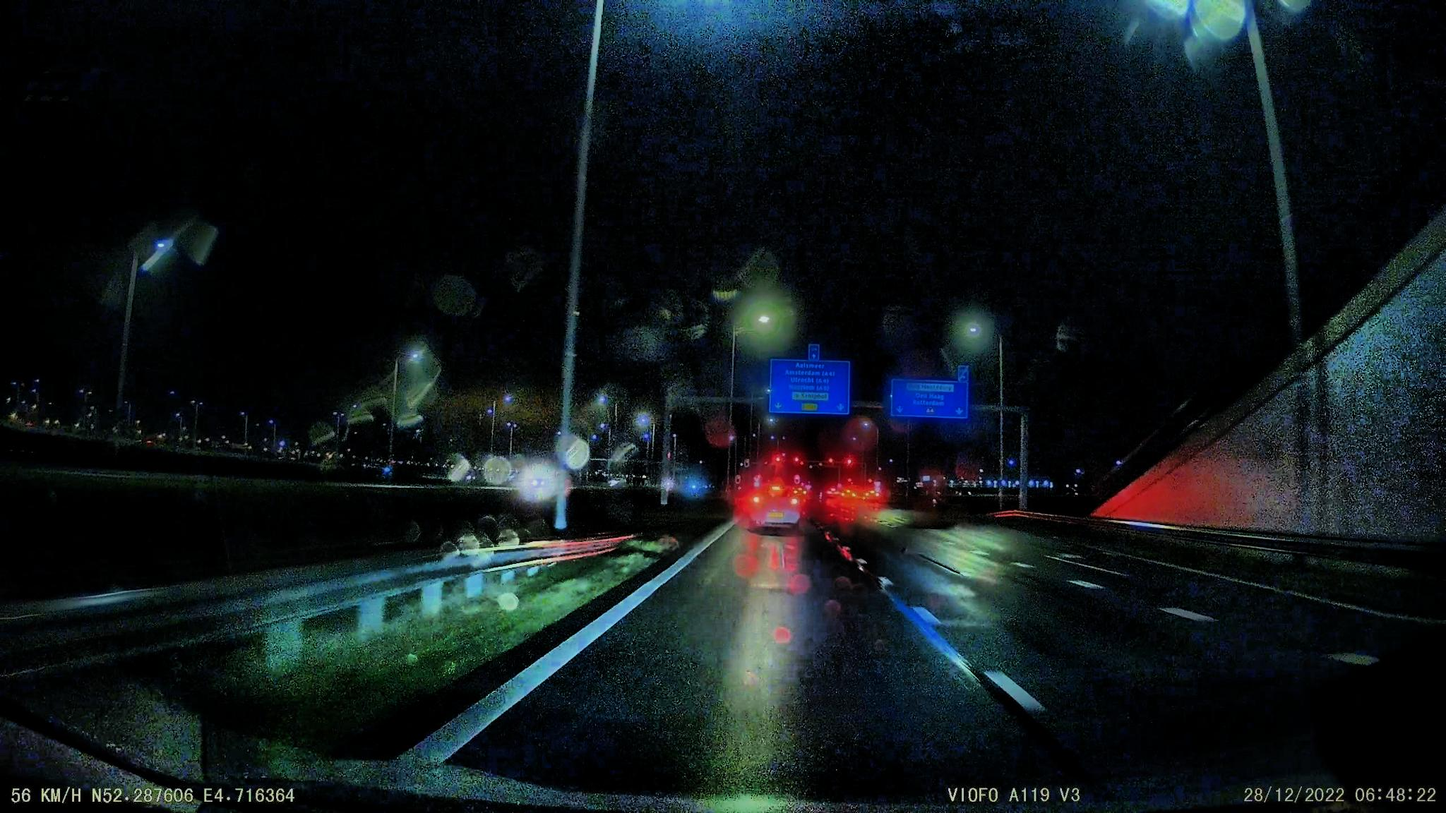Roads: (398, 498, 1428, 787)
